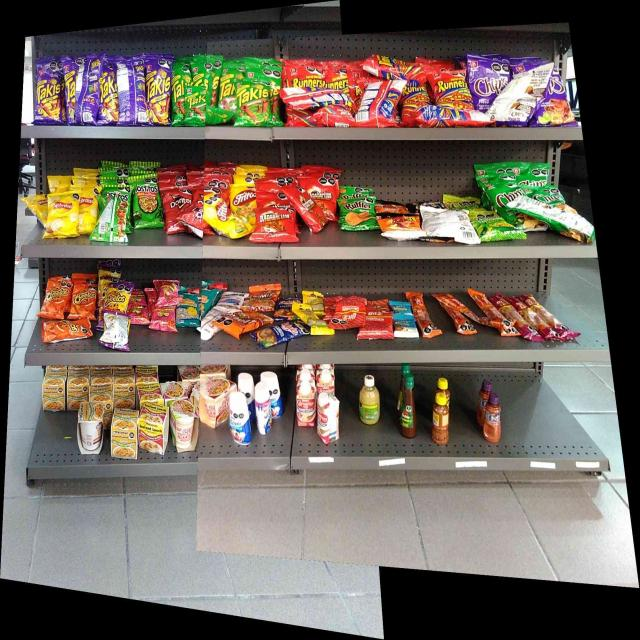bitzAlmendras: (395, 320, 415, 339)
bitzEnchilado90: (331, 298, 364, 330), (367, 310, 392, 340)
bitzEnchilado95: (418, 290, 433, 339), (449, 313, 474, 335), (468, 288, 491, 310), (435, 292, 464, 307)
bitzHabanero: (516, 294, 578, 344)
bokadosCacahuates: (274, 322, 305, 345)
botaneraChilito: (433, 393, 449, 446)
cheetosFlaminHot: (106, 284, 128, 310)
cheetosOriginal: (44, 278, 67, 318), (43, 322, 90, 339), (73, 283, 94, 316)
chipsFuego: (543, 81, 573, 127), (471, 68, 499, 108)
chipsJalapeno: (486, 182, 525, 203)
chipsPapatinas: (473, 211, 514, 243)
churrumais: (155, 279, 179, 305), (152, 308, 175, 332)
delPrimoSalsa: (358, 373, 380, 426)
doritosNacho: (162, 188, 190, 210)
fritosLimon: (204, 193, 230, 236), (233, 182, 256, 222)
hotNutsOriginal: (379, 214, 419, 242)
leoCacahuates: (222, 291, 244, 309)
leoMix: (220, 312, 272, 326), (248, 283, 275, 309)
maruchanPollo: (78, 403, 105, 457), (111, 406, 137, 459), (42, 373, 65, 411)
maruchanRes: (139, 401, 171, 457)
nestleCarnation: (317, 391, 340, 444), (294, 384, 316, 434)
nestleLechera: (230, 394, 252, 448), (254, 386, 272, 435)
nissinCamaron: (172, 400, 200, 454)
nissinRes: (200, 377, 228, 426)
productoAtras: (422, 204, 468, 244), (360, 81, 399, 128), (545, 206, 593, 242), (506, 70, 536, 124), (120, 60, 145, 124), (98, 194, 126, 243), (417, 108, 484, 126), (78, 64, 96, 124), (282, 91, 348, 106), (102, 313, 128, 349)
rancheritos: (258, 206, 292, 242), (314, 177, 335, 214), (294, 197, 312, 226)
rufflesQueso: (340, 197, 374, 230)
runners: (365, 54, 422, 78), (430, 72, 468, 105), (286, 64, 321, 88), (404, 82, 428, 104), (324, 69, 347, 88)
sabritasOriginal: (46, 192, 78, 236), (80, 187, 95, 230)
salsaBufalo: (400, 375, 419, 436)
semillasCalabaza: (306, 305, 326, 336)
semillasGirasol: (181, 294, 199, 326)
tajinDulce: (484, 395, 501, 443)
takisFuego: (148, 60, 170, 124), (37, 69, 61, 123), (100, 73, 118, 124)
takisOriginal: (237, 84, 270, 125), (185, 84, 205, 128), (220, 68, 234, 110), (173, 69, 183, 127)
tostitos: (134, 177, 157, 228)
